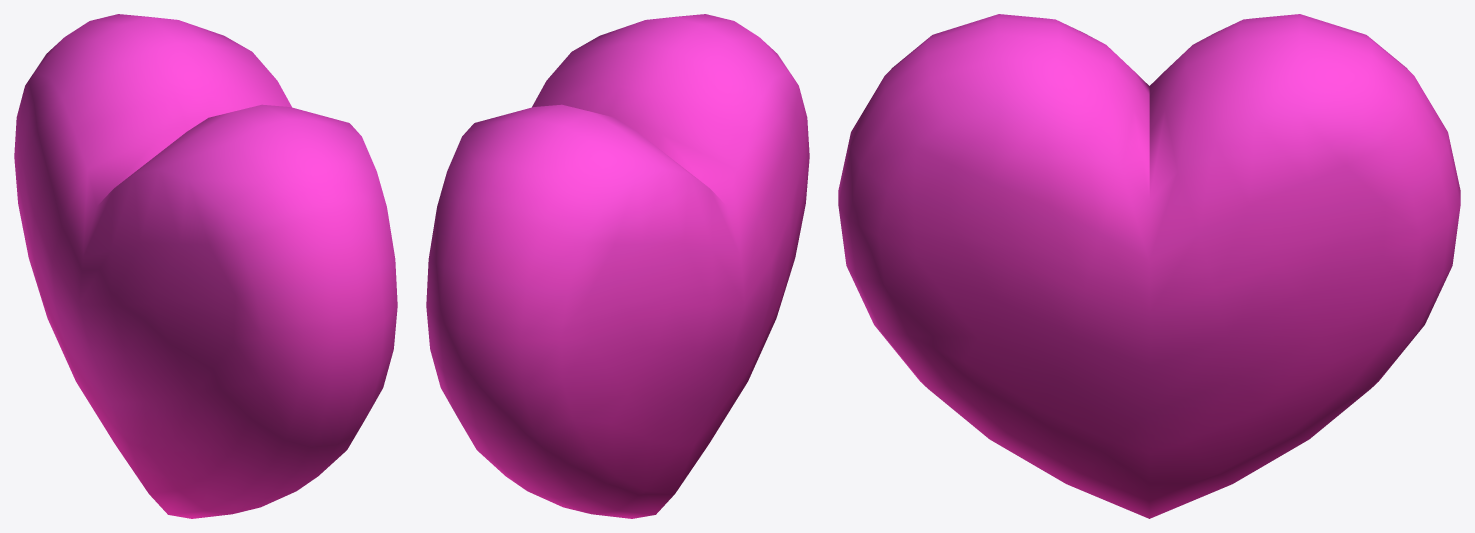
Rendered from Heart_V3_00.fbx.
3 views of the same model, side by side, from view 1: azimuth 30°, elevation 25°; view 2: azimuth 150°, elevation 25°; view 3: azimuth 270°, elevation 25° (orthographic). The views are drawn at different scales.
Parts seen in each view (by area): view 1: Heart_V3_00; view 2: Heart_V3_00; view 3: Heart_V3_00.
Part boxes in pixels (box(x1,y1,x2,y2)): Heart_V3_00: box(14, 14, 397, 518); Heart_V3_00: box(426, 14, 809, 518); Heart_V3_00: box(838, 14, 1460, 518).
Size of the model in its own units: 23.68 by 39.52 by 46.14.
